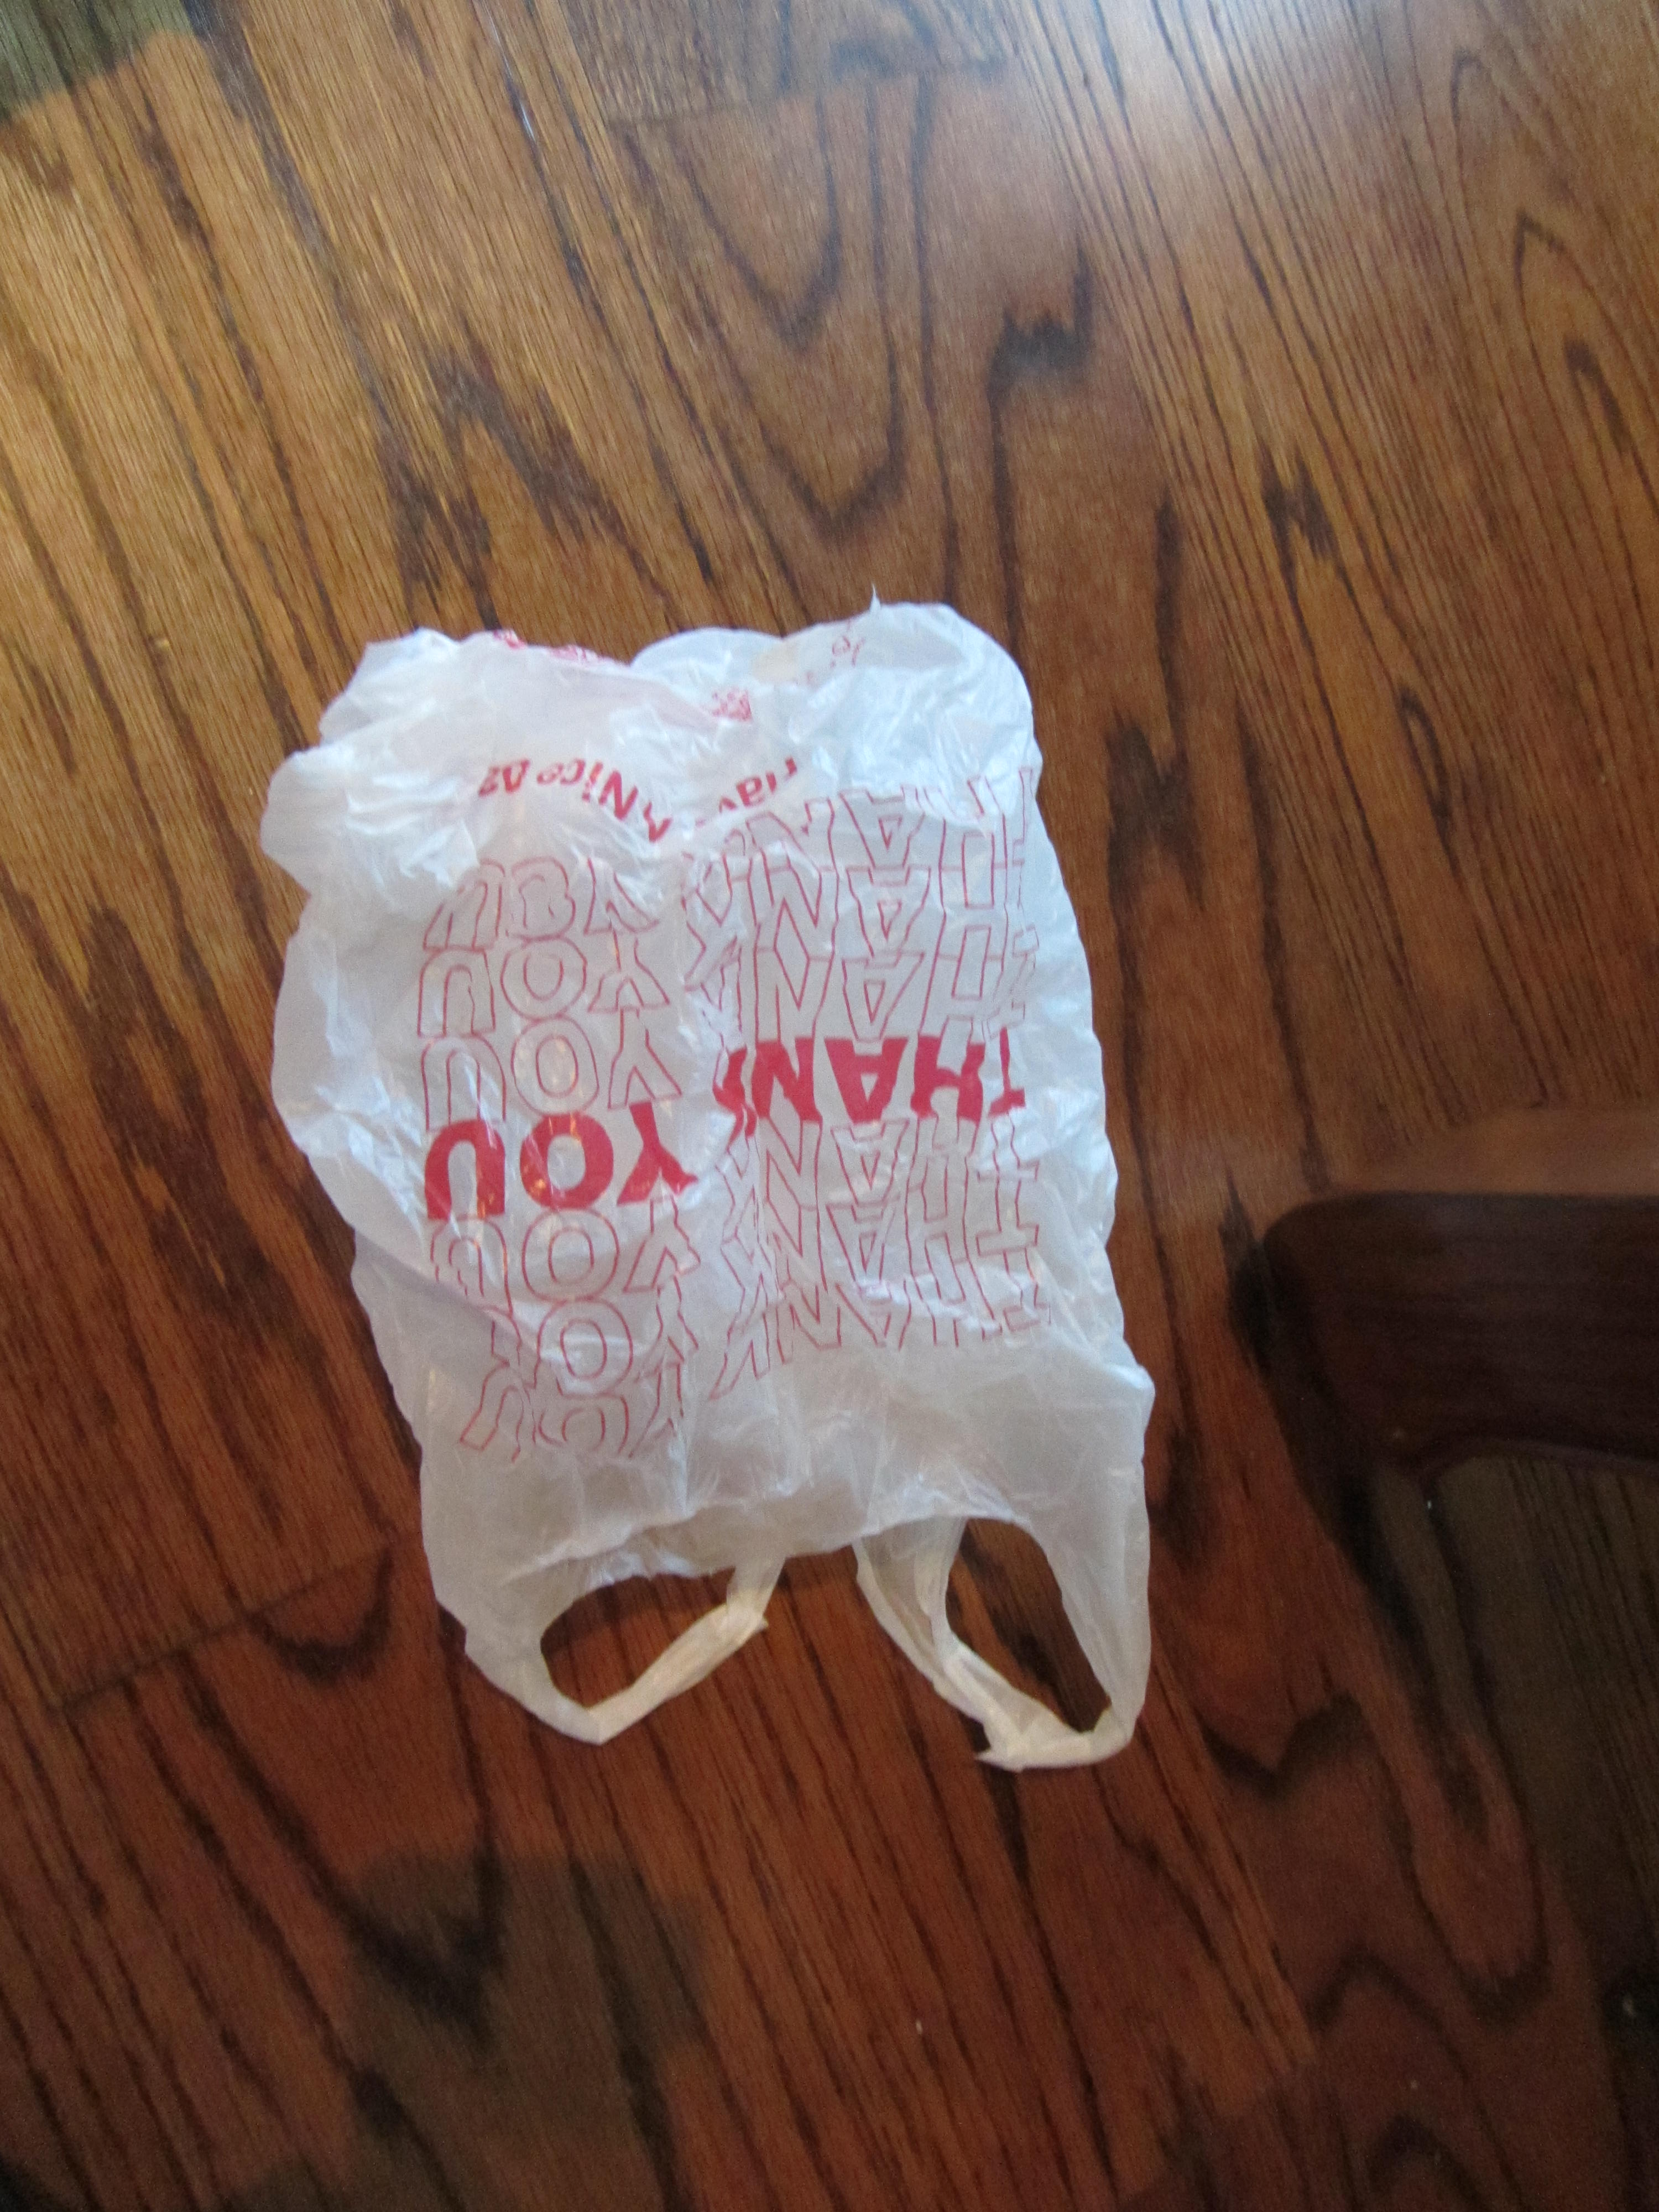plastic_bag: (234, 603, 1175, 1768)
